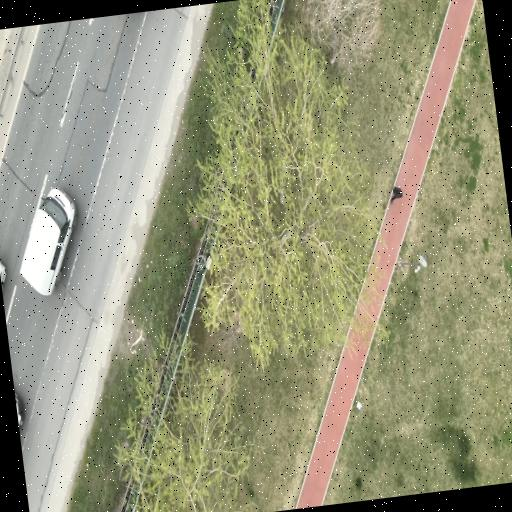car: (21, 188, 77, 295), (15, 393, 23, 430), (0, 261, 6, 293)
person: (391, 187, 403, 202)
